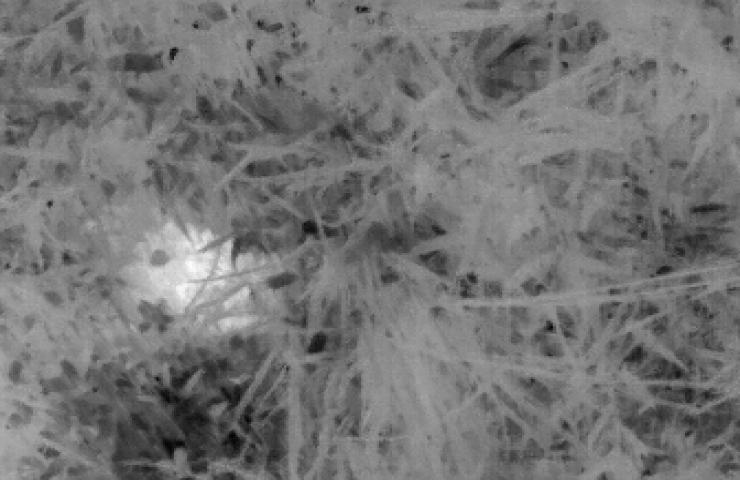landmines: (118, 216, 272, 338)
